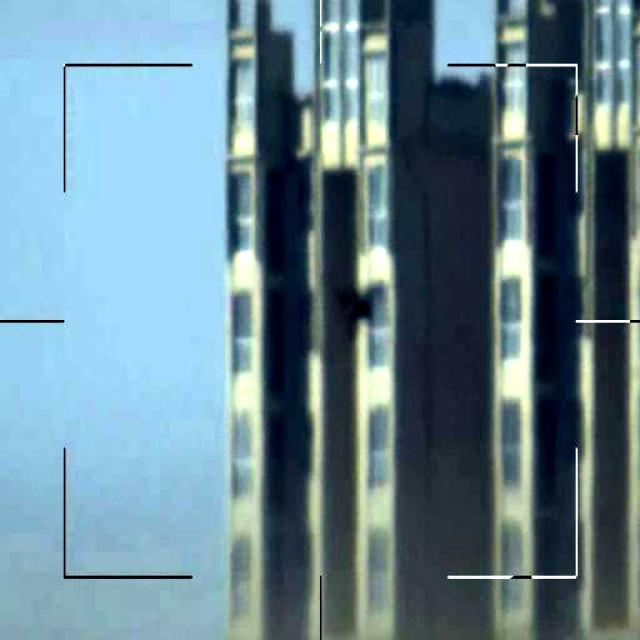bird: (332, 279, 380, 344)
